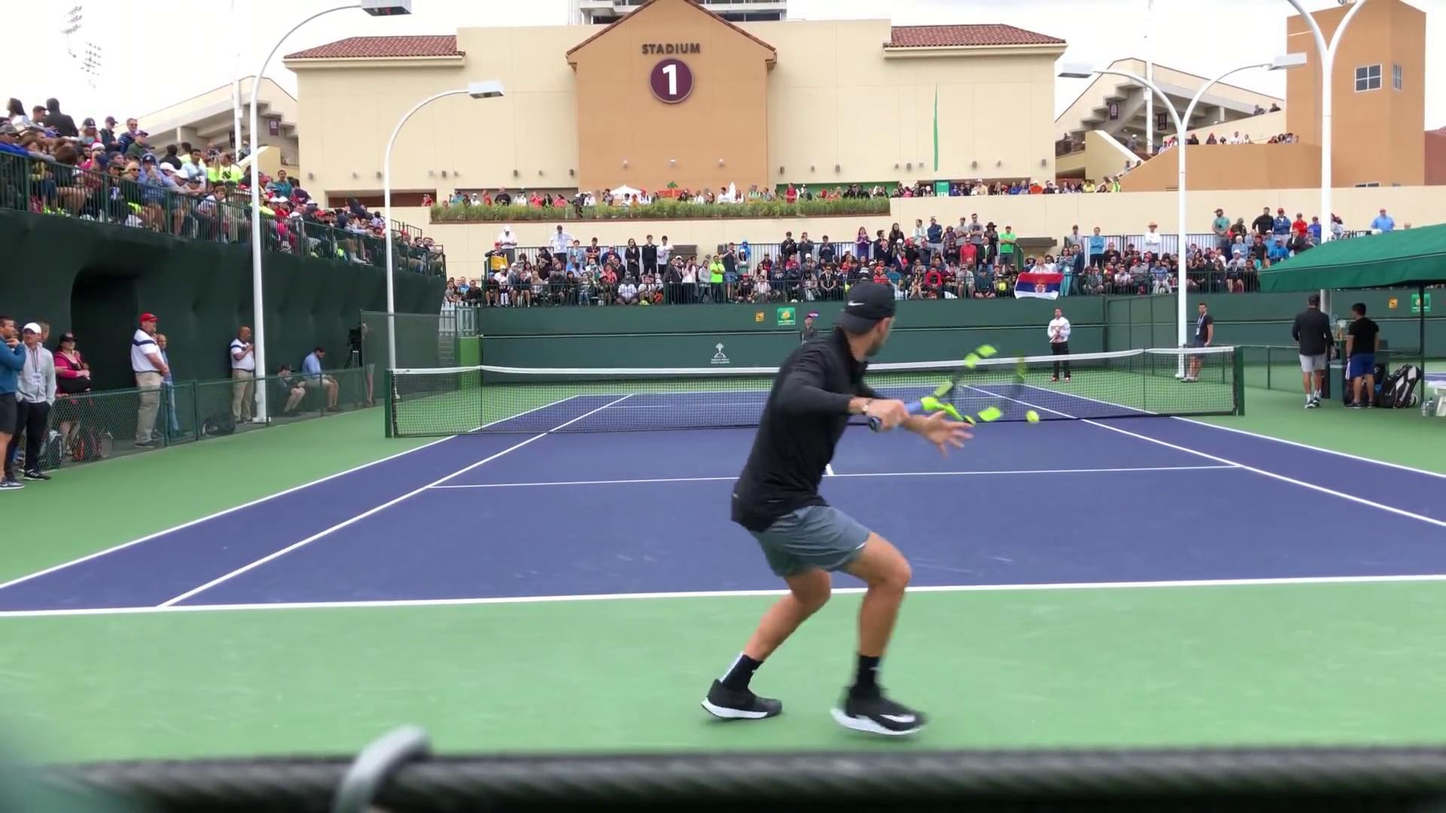ball: (1023, 409, 1042, 426)
